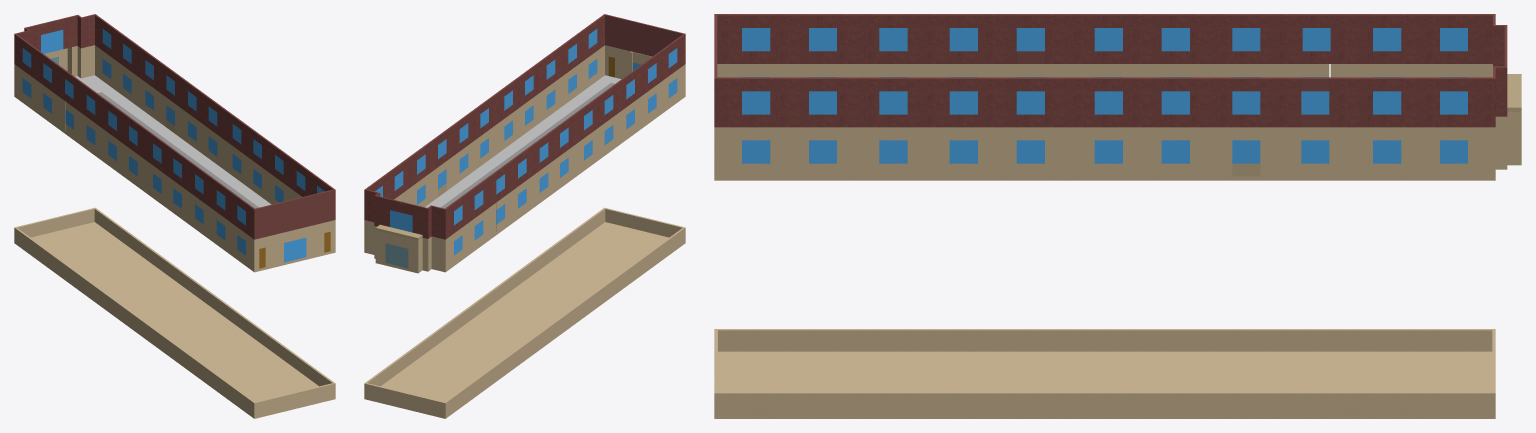
File: Pump_Station_2_expansion.glb
3 renders of one model, left to right at view 1: azimuth 30°, elevation 25°; view 2: azimuth 150°, elevation 25°; view 3: azimuth 270°, elevation 25°, orthographic. The views are drawn at different scales.
Visible parts, largest first — view 1: Floor1, Basement1; view 2: Floor1, Basement1; view 3: Floor1, Basement1.
Boxes of the visible parts, bbox=[...] form: Floor1: bbox=[14, 14, 335, 272]; Basement1: bbox=[14, 207, 335, 418]; Floor1: bbox=[364, 14, 685, 273]; Basement1: bbox=[364, 207, 685, 418]; Floor1: bbox=[714, 14, 1521, 180]; Basement1: bbox=[714, 329, 1495, 418].
Size of the model in its own units: 13 by 32 by 68.75.
7 materials, 6 textured.
